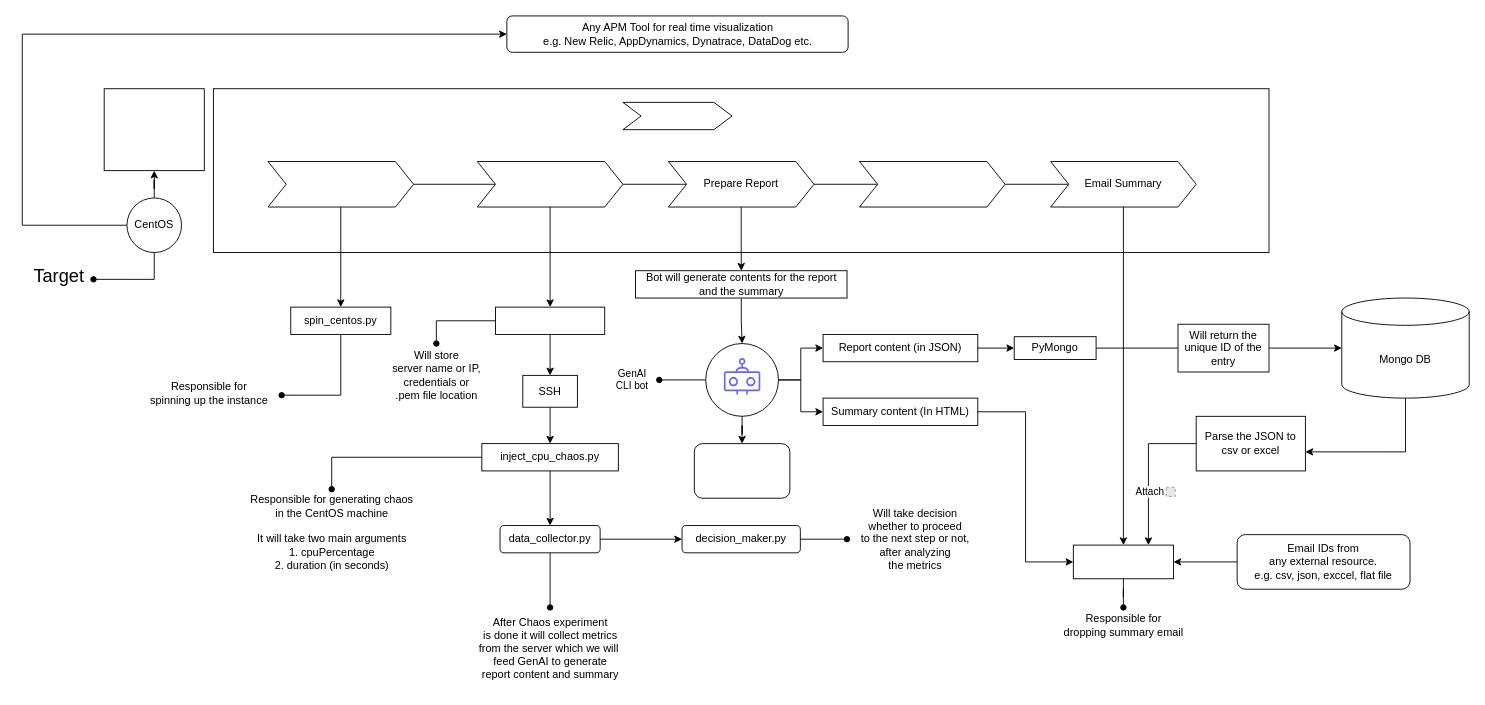
The diagram is 1485 pixels wide and 705 high, and some of its shapes have lost their labels. Grey dashed boxes stand in for pictures. The shapes that lost their labels are listed below. From the top down, each one's box as (x1, y1, x2, y2) in pixels, then its label:
(103, 88, 204, 171): Oracle VirtualBox
(622, 101, 732, 130): Jenkins
(267, 161, 414, 207): Spin-up the CentOS instance
(476, 161, 623, 207): Inject CPU Chaos
(859, 161, 1005, 207): Generate Summary
(495, 306, 605, 334): config.properties
(693, 443, 790, 498): If decision is GREEN
(1072, 544, 1173, 579): Python SMTP
